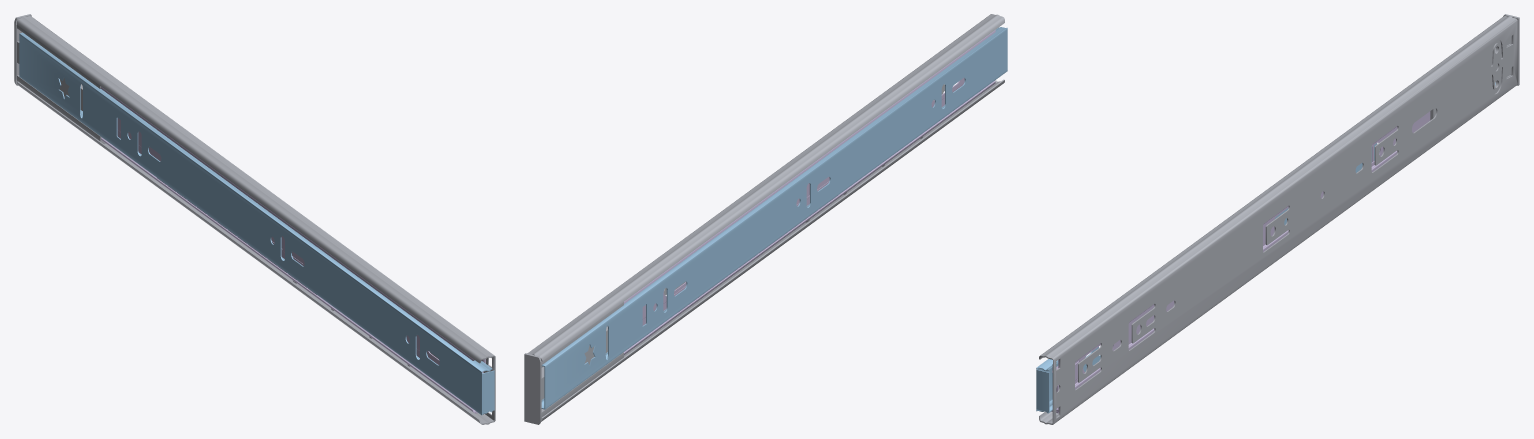
The model's file is widget_rail.glb.
3 views of the same model, side by side, from view 1: azimuth 30°, elevation 25°; view 2: azimuth 150°, elevation 25°; view 3: azimuth 330°, elevation 25° (orthographic).
Visible parts, largest first — view 1: rail_dynamic_end, rail_static_end, middle_rail.001; view 2: rail_dynamic_end, rail_static_end, middle_rail.001; view 3: rail_static_end, middle_rail.001, rail_dynamic_end.
Boxes of the visible parts, x1,y1,x2,y2 form: rail_dynamic_end: [19, 32, 494, 415]; rail_static_end: [14, 14, 495, 424]; middle_rail.001: [100, 86, 485, 413]; rail_dynamic_end: [541, 27, 1007, 409]; rail_static_end: [524, 14, 1004, 424]; middle_rail.001: [624, 30, 995, 354]; rail_static_end: [1039, 14, 1519, 424]; middle_rail.001: [1051, 111, 1430, 413]; rail_dynamic_end: [1036, 82, 1495, 413].
Size of the model in its own units: 0.0251 by 0.1015 by 1.26.
